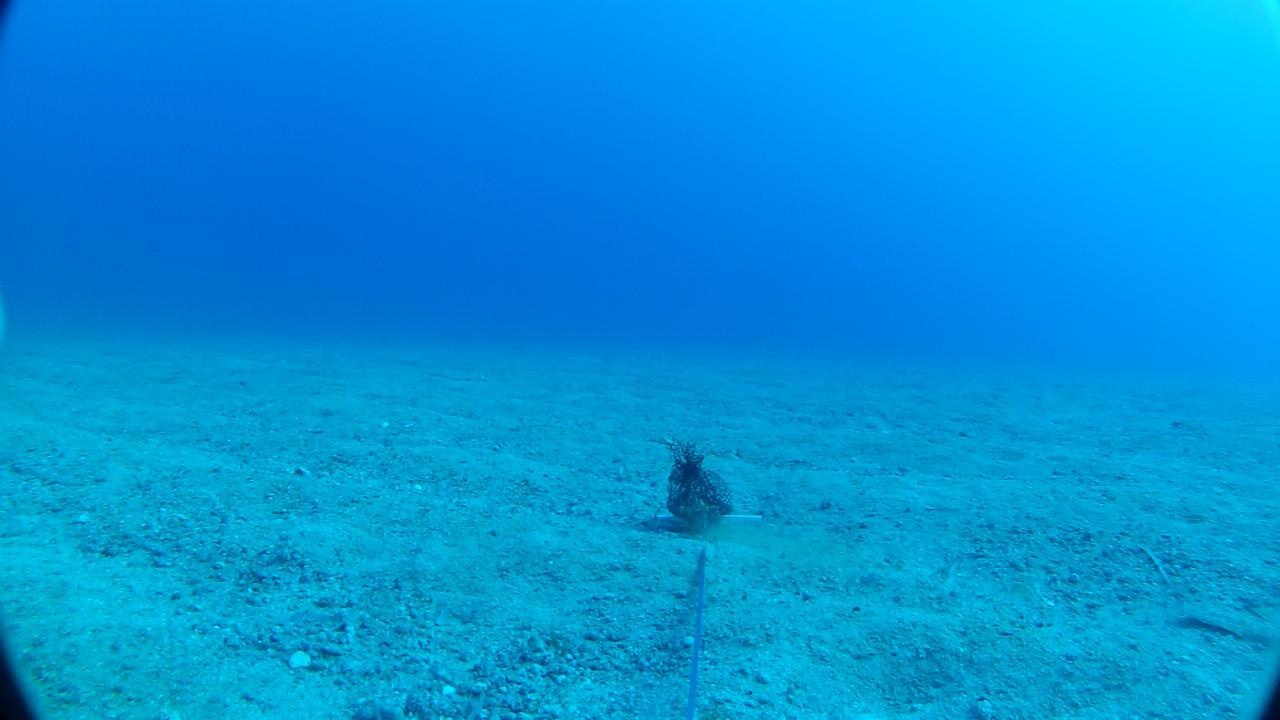bothus: (1170, 602, 1268, 647)
